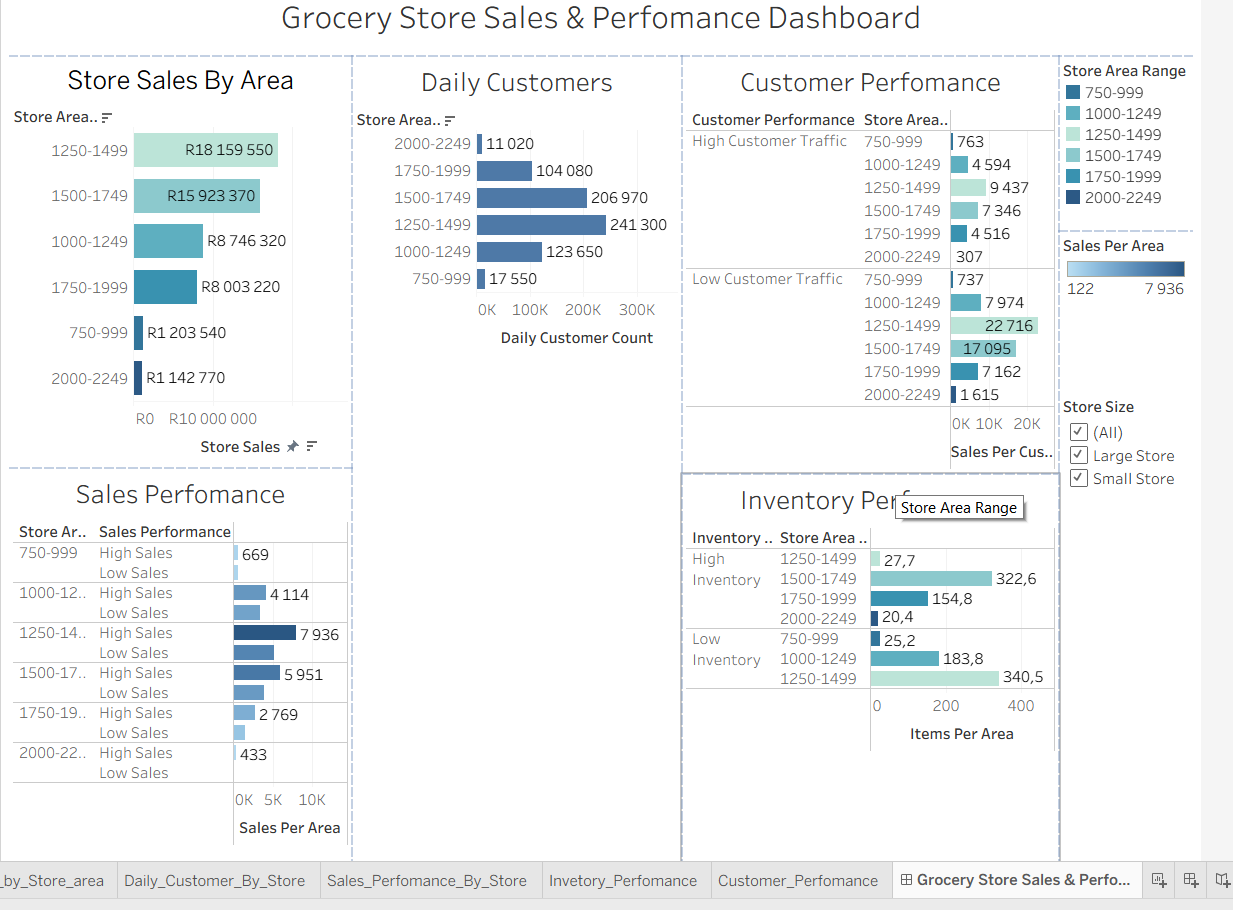

What the dashboard file says about the page in this screenshot:
{"tool":"tableau","page":{"name":"Grocery Store Sales & Performance Dashboard","canvas":[1200,1050],"ordinal":0},"visuals":[{"type":"title","box":[8,8,1184,79]},{"type":"worksheet","title":"Sales_by_Store_area","mark":"Automatic","rows":["Calculation_0816164045078539"],"cols":["Store_Sales"],"box":[8,87,343,412]},{"type":"worksheet","title":"Daily_Customer_By_Store","mark":"Automatic","rows":["Calculation_0816164045078539"],"cols":["Daily_Customer_Count"],"box":[351,87,330,955]},{"type":"worksheet","title":"Customer_Perfomance","mark":"Automatic","rows":["Customer_Performance","Calculation_0816164045078539"],"cols":["Sales_Per_Customer"],"box":[681,87,377,418]},{"type":"legend","title":"Sales_by_Store_area","param":"[federated.15t1n110qrc5wv1fmfjnw13ye8i2].[none:Calculation_0816164045078539:nk]","box":[1058,87,134,175]},{"type":"legend","title":"Sales_Perfomance_By_Store","param":"[federated.15t1n110qrc5wv1fmfjnw13ye8i2].[sum:Sales_Per_Area:qk]","box":[1058,262,134,161]},{"type":"filter","title":"Sales_by_Store_area","param":"[federated.15t1n110qrc5wv1fmfjnw13ye8i2].[none:Store_Size:nk]","box":[1058,423,134,266]},{"type":"worksheet","title":"Sales_Perfomance_By_Store","mark":"Automatic","rows":["Calculation_0816164045078539","Sales_Performance"],"cols":["Sales_Per_Area"],"box":[8,499,343,543]},{"type":"worksheet","title":"Invetory_Perfomance","mark":"Automatic","rows":["Inventory_Performance","Calculation_0816164045078539"],"cols":["Items_Per_Area"],"box":[681,505,377,537]}]}

Visuals, with their boxes on the page's 1200x1050 design canvas (x1, y1, x2, y2). These are canvas units, not pixel positions in the 1233x910 screenshot, which may show the page scaled, cropped or inside an application window:
title: <bbox>8, 8, 1192, 87</bbox>
"Sales_by_Store_area" worksheet: <bbox>8, 87, 351, 499</bbox>
"Daily_Customer_By_Store" worksheet: <bbox>351, 87, 681, 1042</bbox>
"Customer_Perfomance" worksheet: <bbox>681, 87, 1058, 505</bbox>
"Sales_by_Store_area" legend: <bbox>1058, 87, 1192, 262</bbox>
"Sales_Perfomance_By_Store" legend: <bbox>1058, 262, 1192, 423</bbox>
"Sales_by_Store_area" filter: <bbox>1058, 423, 1192, 689</bbox>
"Sales_Perfomance_By_Store" worksheet: <bbox>8, 499, 351, 1042</bbox>
"Invetory_Perfomance" worksheet: <bbox>681, 505, 1058, 1042</bbox>
